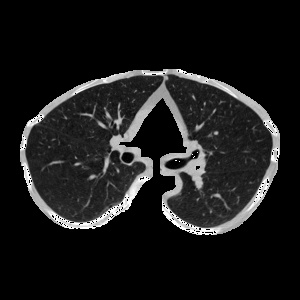PN: (214, 131, 218, 135)
